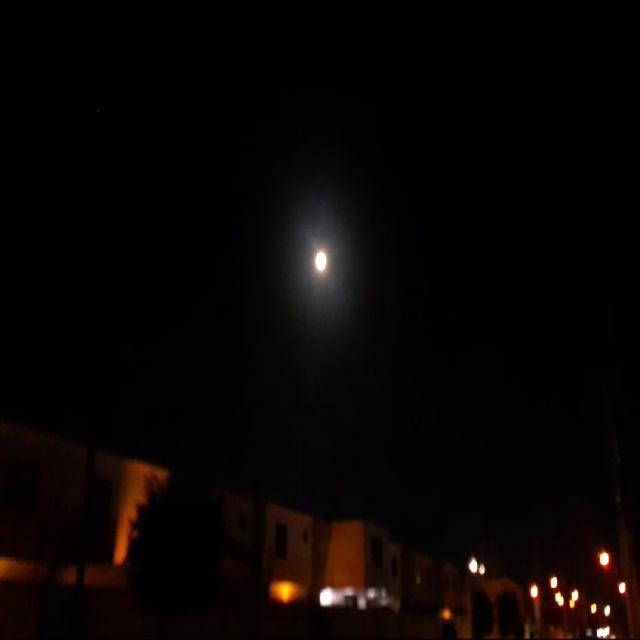moon: (312, 252, 329, 286)
